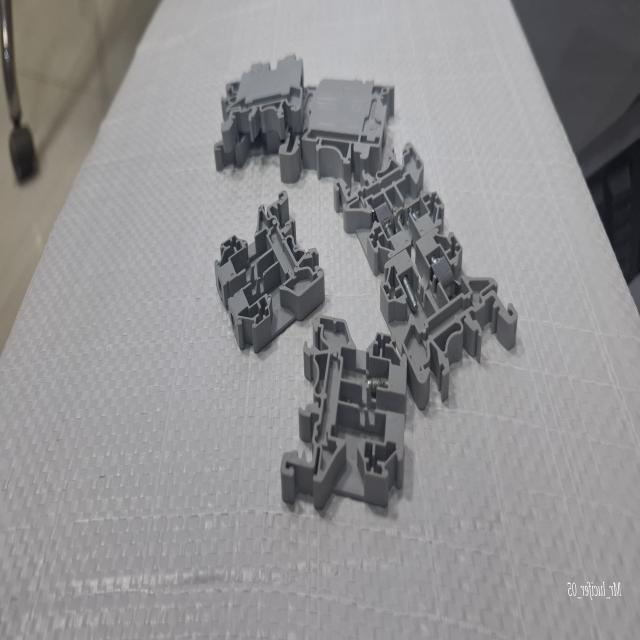Reject: (280, 316, 406, 525), (380, 227, 520, 408), (210, 191, 325, 353), (332, 142, 448, 268)
